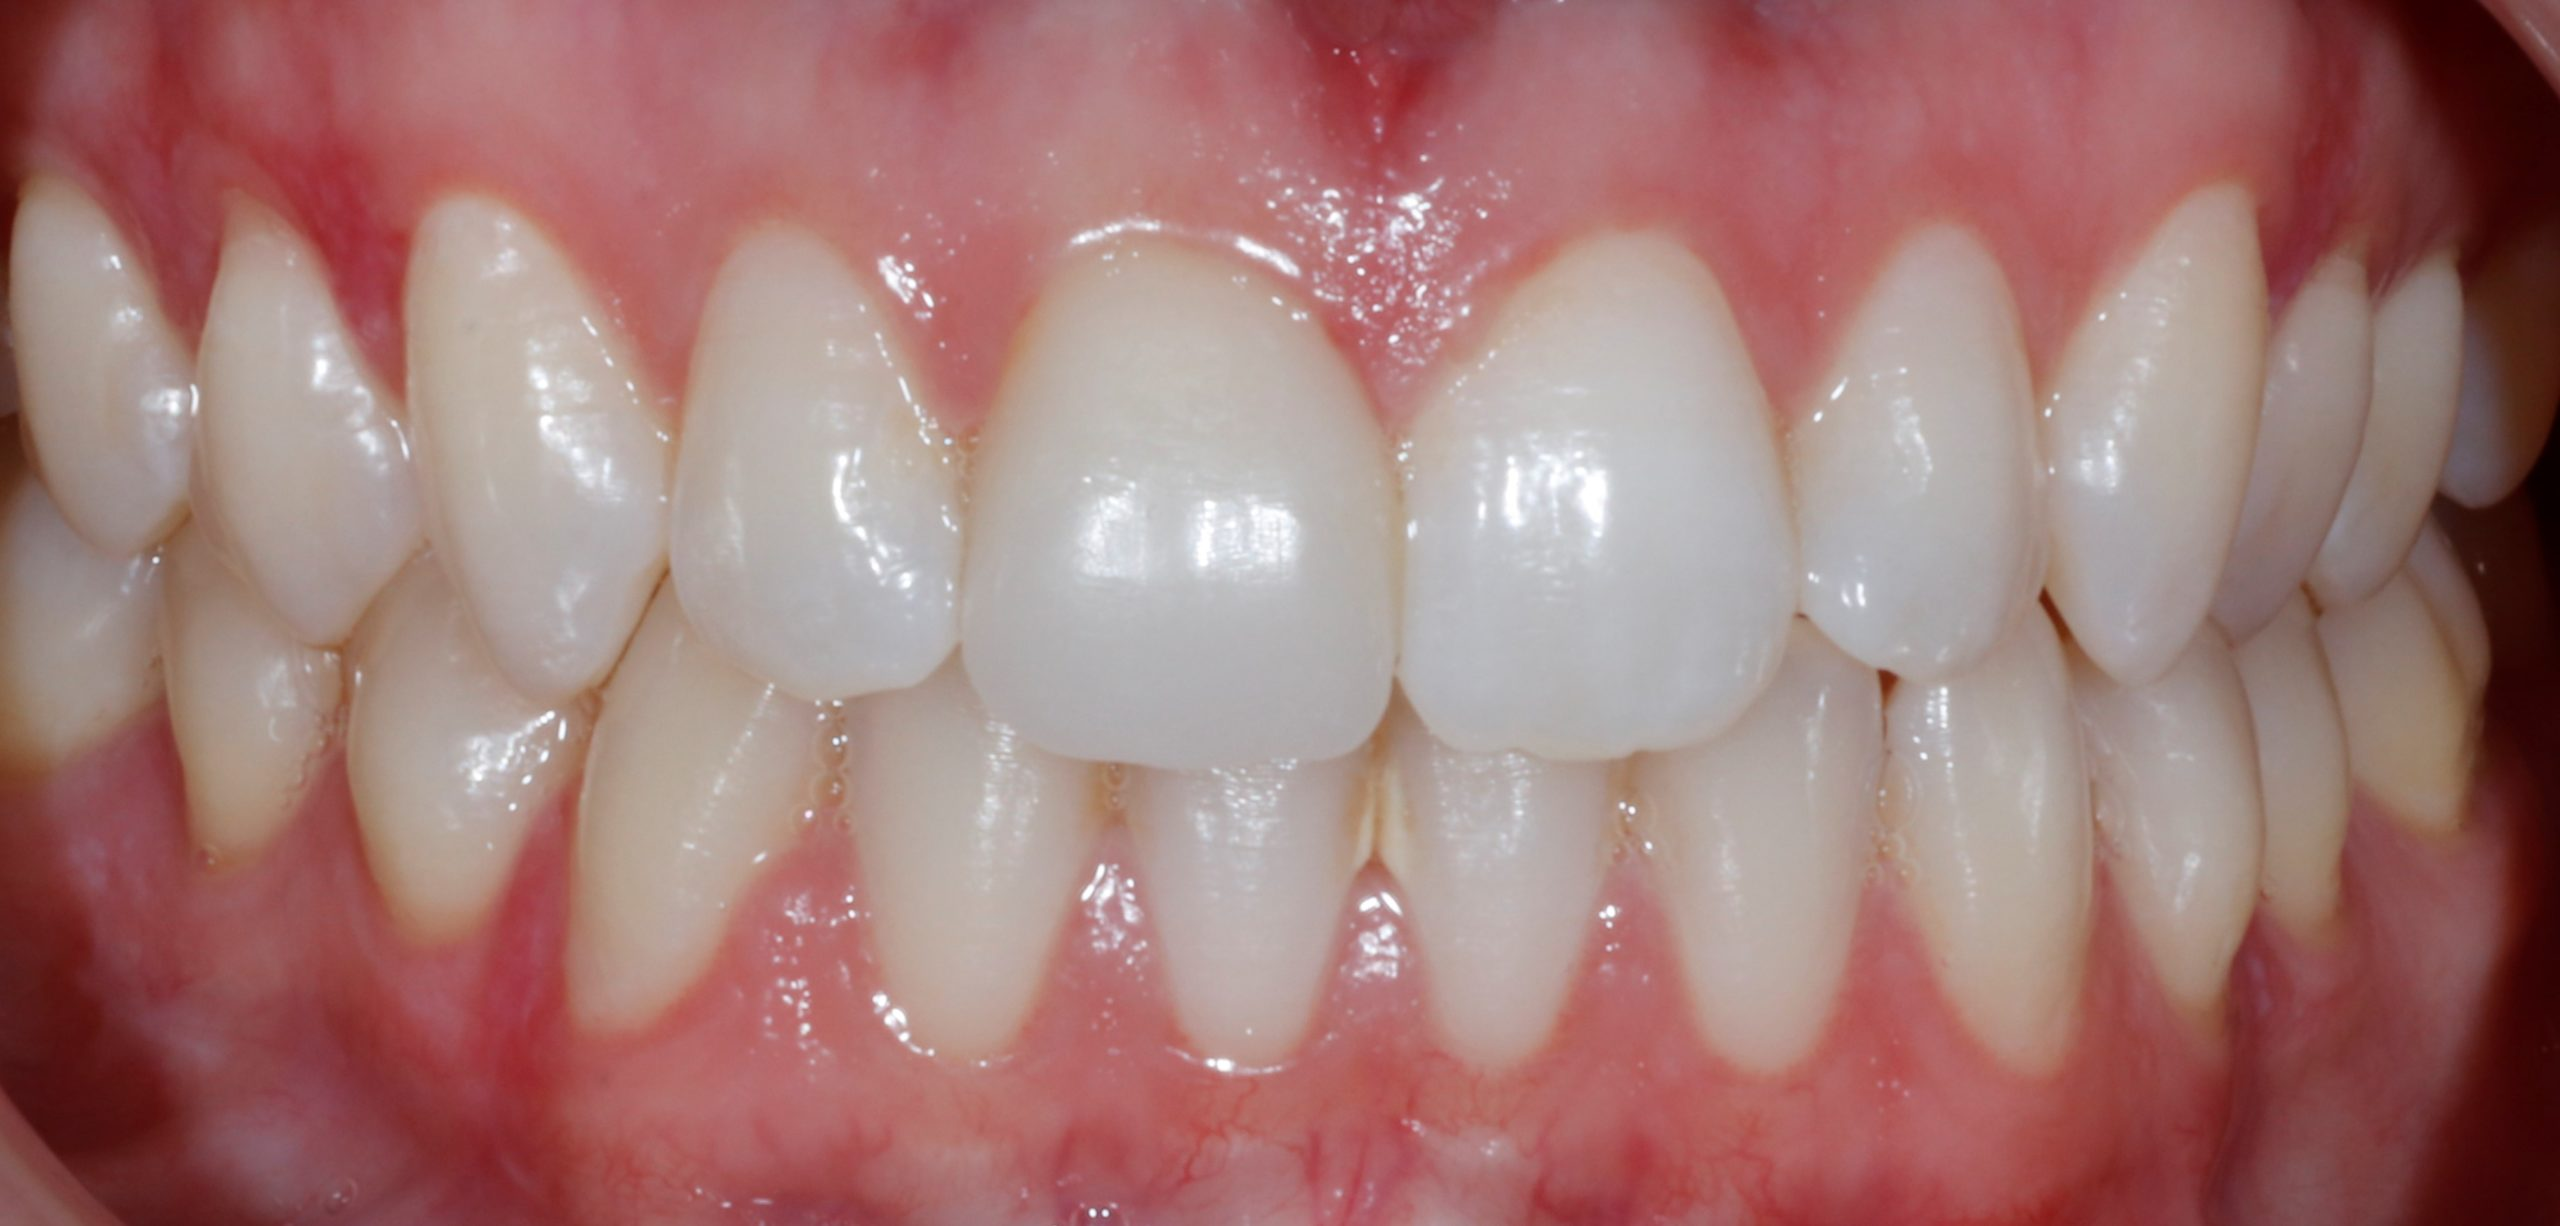LL1BC_healthy: (2091, 676, 2274, 1012)
LL1M_healthy: (2335, 573, 2522, 865)
LL2BC_healthy: (2238, 660, 2389, 1007)
LLCI_healthy: (1378, 743, 1628, 1094)
LLC_healthy: (1904, 656, 2114, 1079)
LLLI_healthy: (1631, 686, 1904, 1094)
LR1BC_healthy: (340, 611, 589, 983)
LR1M_healthy: (15, 540, 189, 793)
LR2BC_healthy: (149, 565, 341, 901)
LRCI_healthy: (1113, 754, 1362, 1079)
LRC_healthy: (558, 640, 823, 1046)
LRLI_healthy: (847, 687, 1109, 1091)
UL1BC_healthy: (2256, 261, 2376, 648)
UL2BC_healthy: (2367, 251, 2470, 615)
ULCI_healthy: (1412, 232, 1794, 751)
ULC_healthy: (2052, 188, 2256, 679)
ULLI_healthy: (1793, 225, 2052, 673)
UR1BC_healthy: (194, 193, 423, 637)
UR2BC_healthy: (3, 189, 202, 545)
URCI_healthy: (967, 261, 1406, 774)
URC_healthy: (410, 224, 681, 673)
URLI_healthy: (660, 243, 978, 699)
